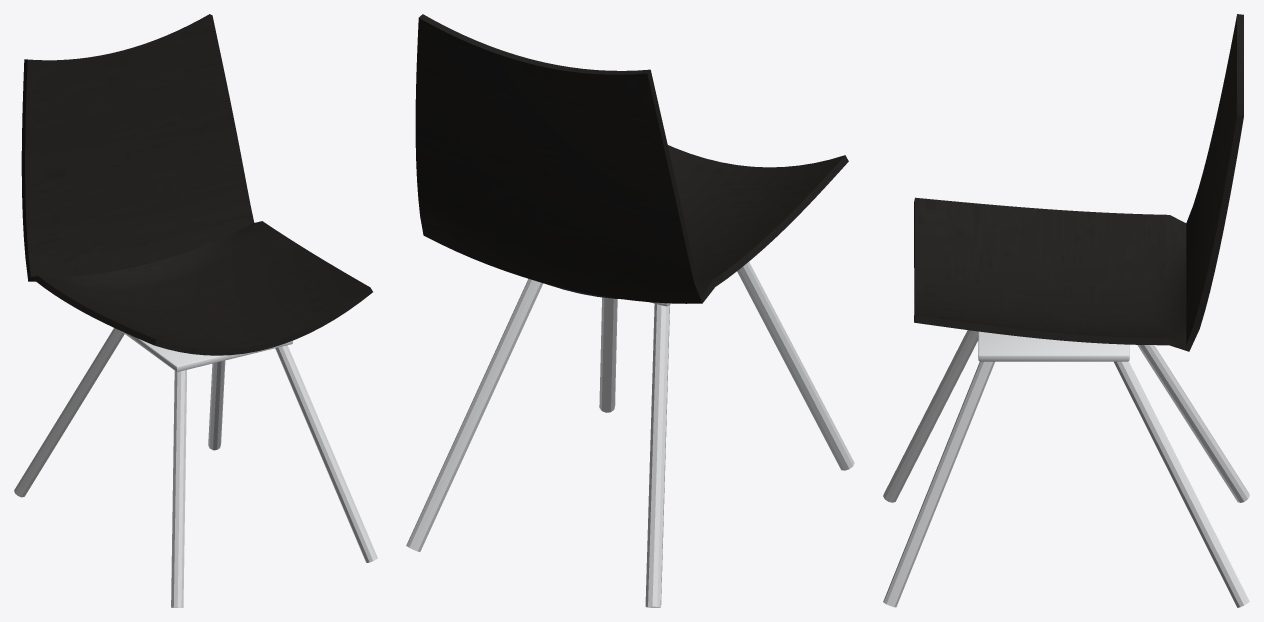
The model's file is shell_black.glb.
3 views of the same model, side by side, from view 1: azimuth 30°, elevation 25°; view 2: azimuth 150°, elevation 25°; view 3: azimuth 270°, elevation 25° (orthographic). The views are drawn at different scales.
Parts seen in each view (by area): view 1: shell_black; view 2: shell_black; view 3: shell_black.
Boxes of the visible parts, x1,y1,x2,y2 form: shell_black: (14,14,377,607); shell_black: (406,14,854,607); shell_black: (883,14,1249,607).
Size of the model in its own units: 0.4733 by 0.8557 by 0.5808.
2 materials, 1 textured.
